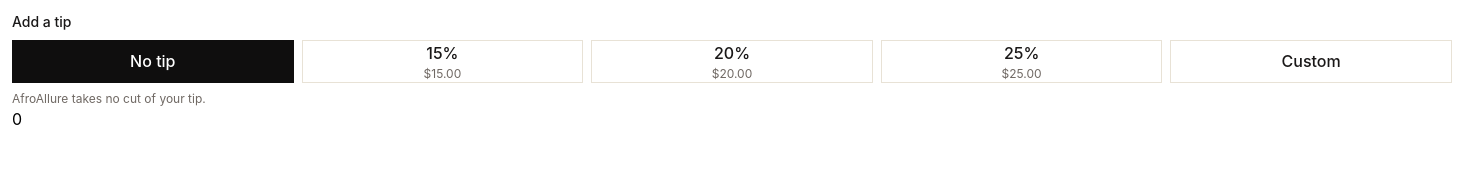
it: TipPicker › goes back to the previous choice and shows the error when saving fails
Click the button "20% $20.00" at {"x": 732, "y": 61}, box [591,40,873,83]
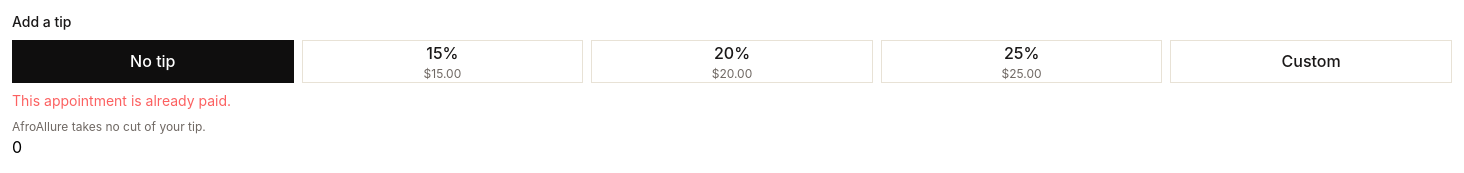
Expected: the text with test id "tip" reads "0", [12,137,22,157]
Expected: the text "This appointment is already paid." is shown, [12,92,231,109]
